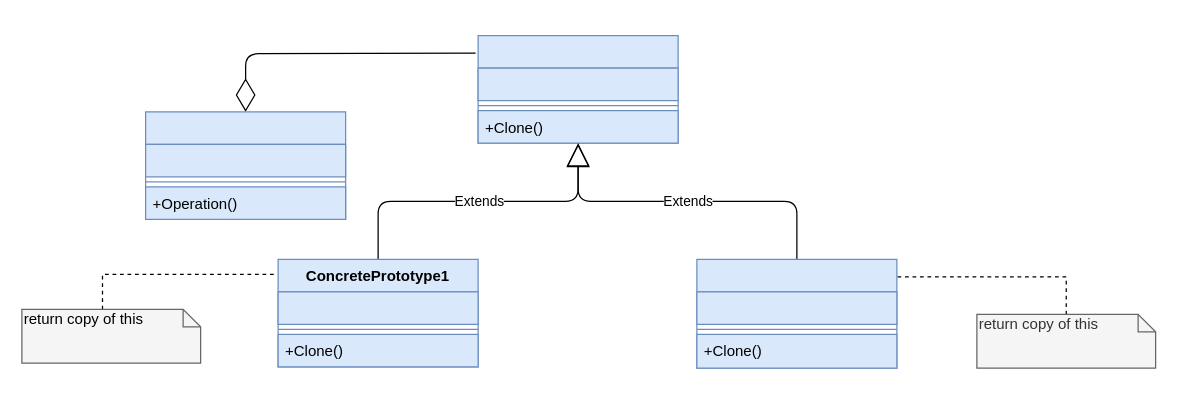
The diagram is 1178 pixels wide and 394 high, and some of its shapes have lost their labels. Here are the shapes that lost their labels. From the top down, the box of each, then its label:
(477, 34, 678, 143): Prototype
(144, 111, 346, 219): Client
(696, 258, 897, 368): ConcretePrototype2
